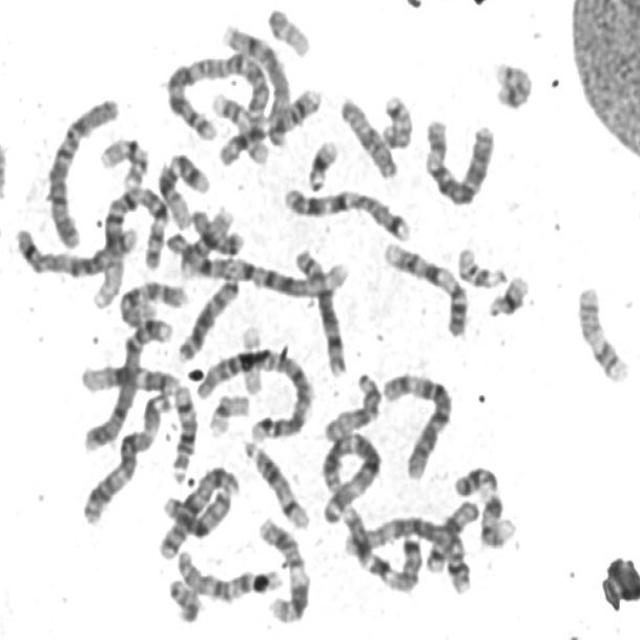A1: (166, 222, 352, 299), (88, 178, 174, 309)
A2: (195, 338, 318, 442), (162, 45, 276, 151)
A3: (78, 385, 174, 527), (316, 423, 386, 527)
B4: (78, 309, 175, 453), (42, 89, 122, 250)
B5: (342, 512, 479, 596), (10, 217, 141, 278)
C10: (171, 542, 284, 603), (114, 272, 192, 328)
C11: (211, 81, 324, 167), (252, 509, 313, 625)
C12: (154, 145, 213, 231), (75, 355, 182, 398)
C6: (378, 363, 457, 482), (419, 110, 499, 208)
C7: (279, 178, 414, 242), (337, 499, 426, 594)
C8: (216, 16, 298, 148), (289, 242, 350, 378)
C9: (378, 234, 472, 338), (450, 459, 519, 549)
D13: (172, 269, 243, 363), (154, 477, 236, 540)
D14: (238, 432, 312, 530), (166, 377, 200, 484)
D15: (336, 90, 402, 181), (320, 364, 386, 444)
E16: (175, 198, 238, 280), (95, 130, 151, 191)
E17: (572, 277, 634, 385), (207, 86, 272, 165)
E18: (426, 495, 486, 584), (184, 208, 255, 256)
F19: (204, 386, 253, 439), (235, 318, 267, 398)
F20: (376, 86, 416, 151), (490, 55, 538, 109)
G21: (483, 267, 533, 319), (302, 132, 342, 192)
G22: (453, 238, 510, 290), (263, 0, 313, 59)
X: (158, 466, 236, 566)
Y: (164, 572, 204, 625)
